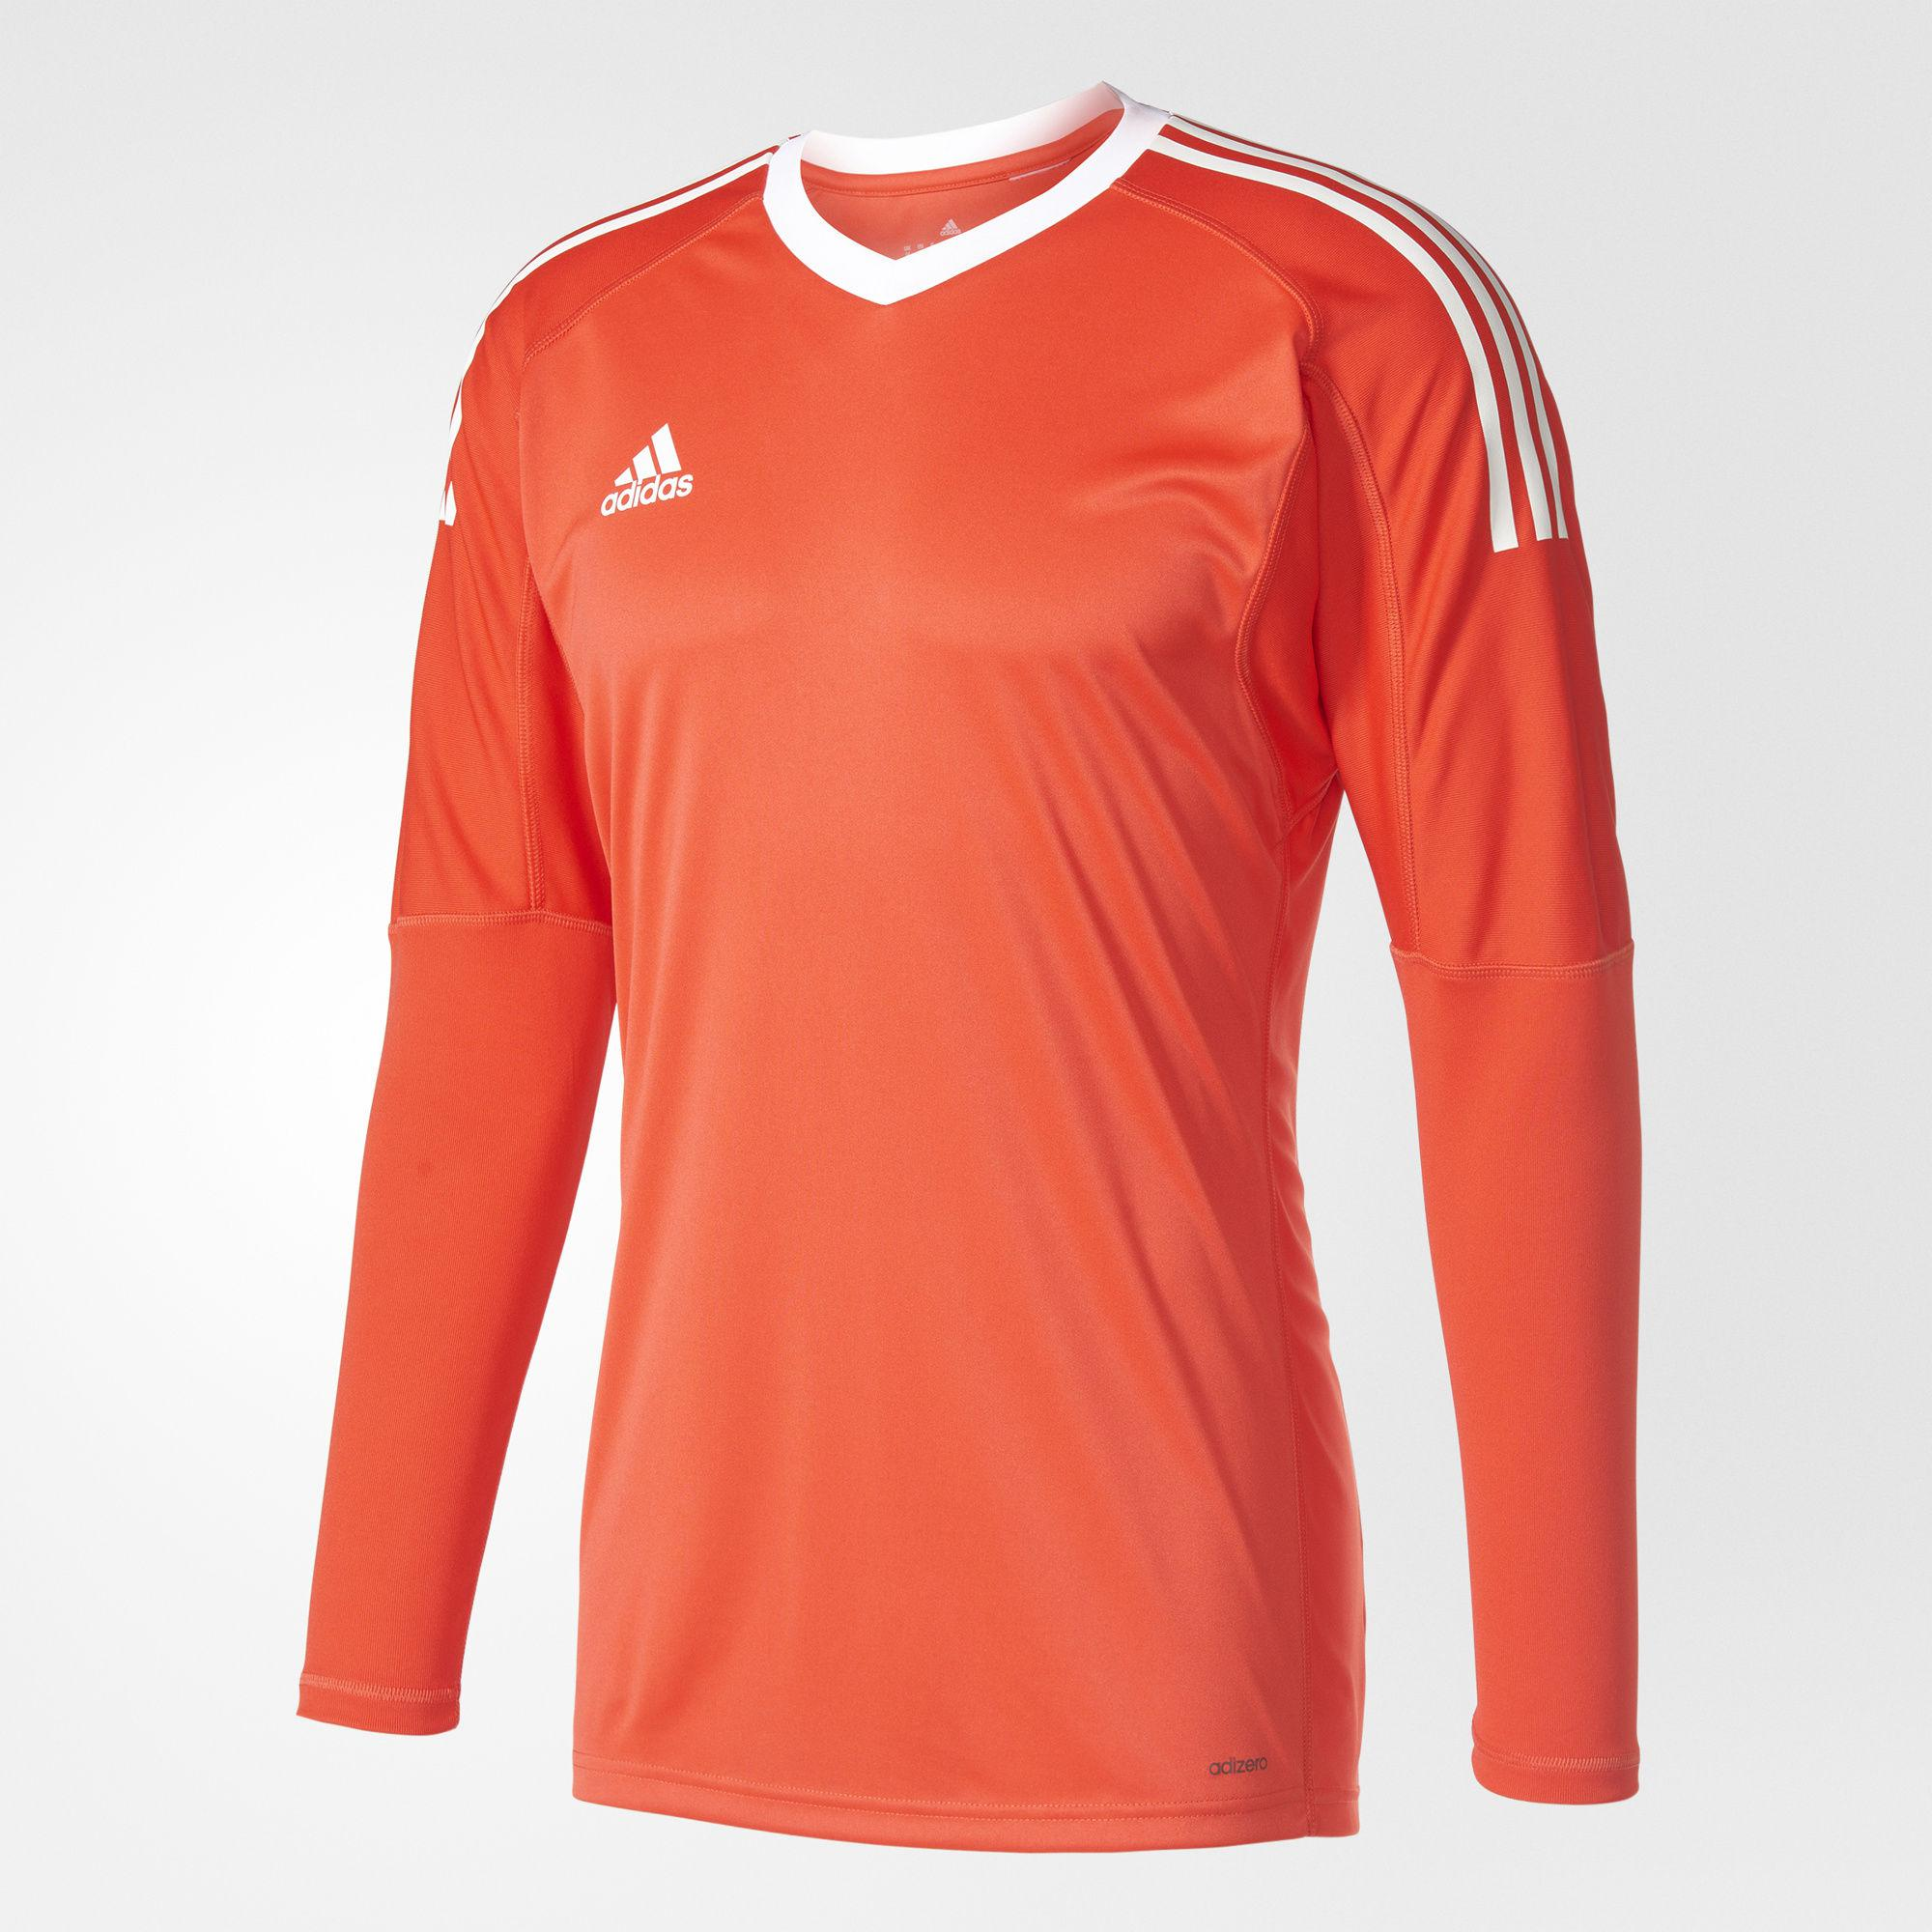teeshirt: (219, 119, 1714, 1932)
